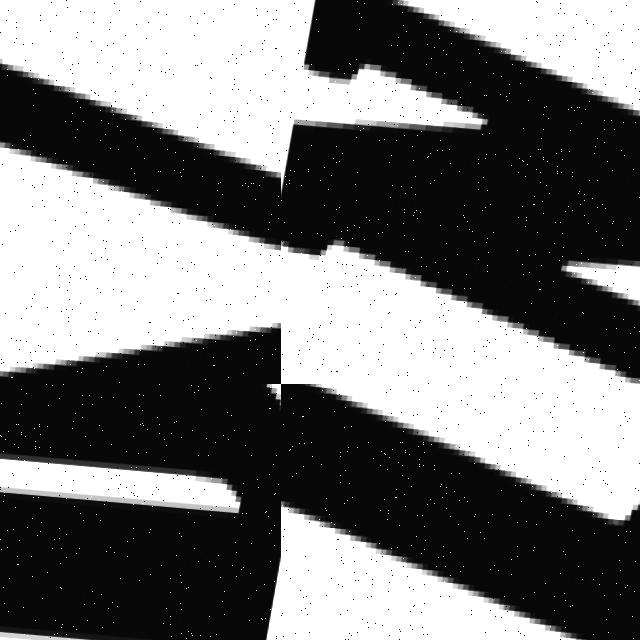D: (0, 384, 281, 640)
I: (281, 384, 640, 640)
N: (281, 0, 640, 384)
V: (0, 50, 281, 384)
